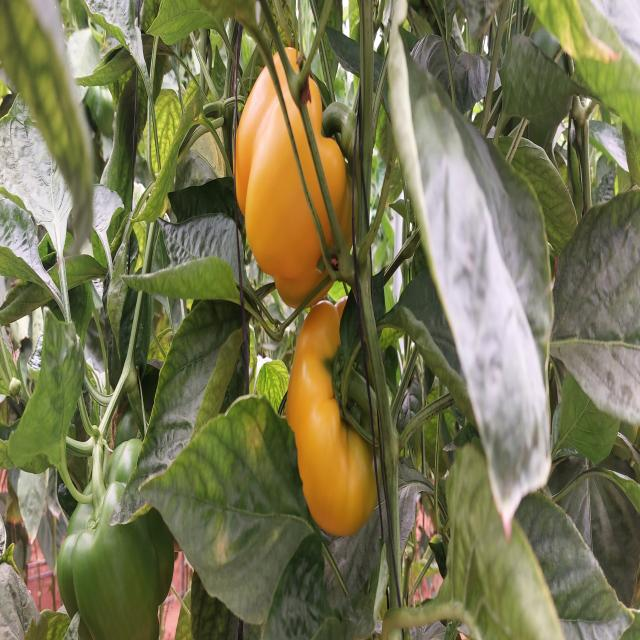Yellow-Ready-to-Harvest: (235, 41, 356, 300), (287, 306, 380, 546)
